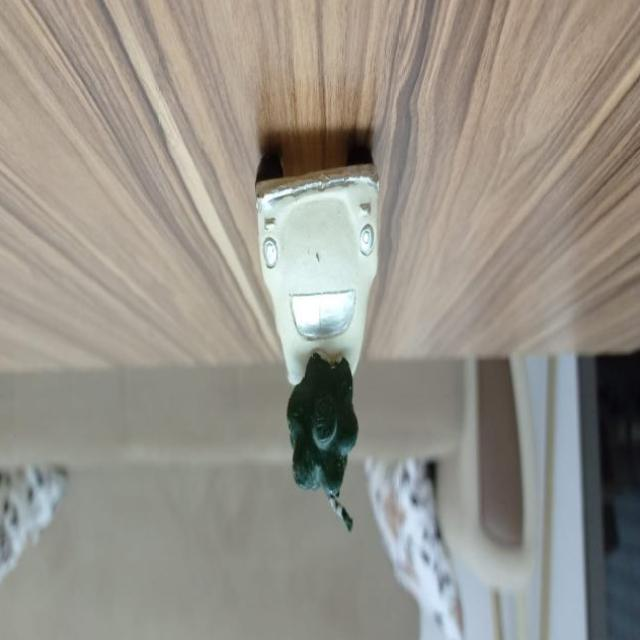car: (248, 157, 388, 380)
